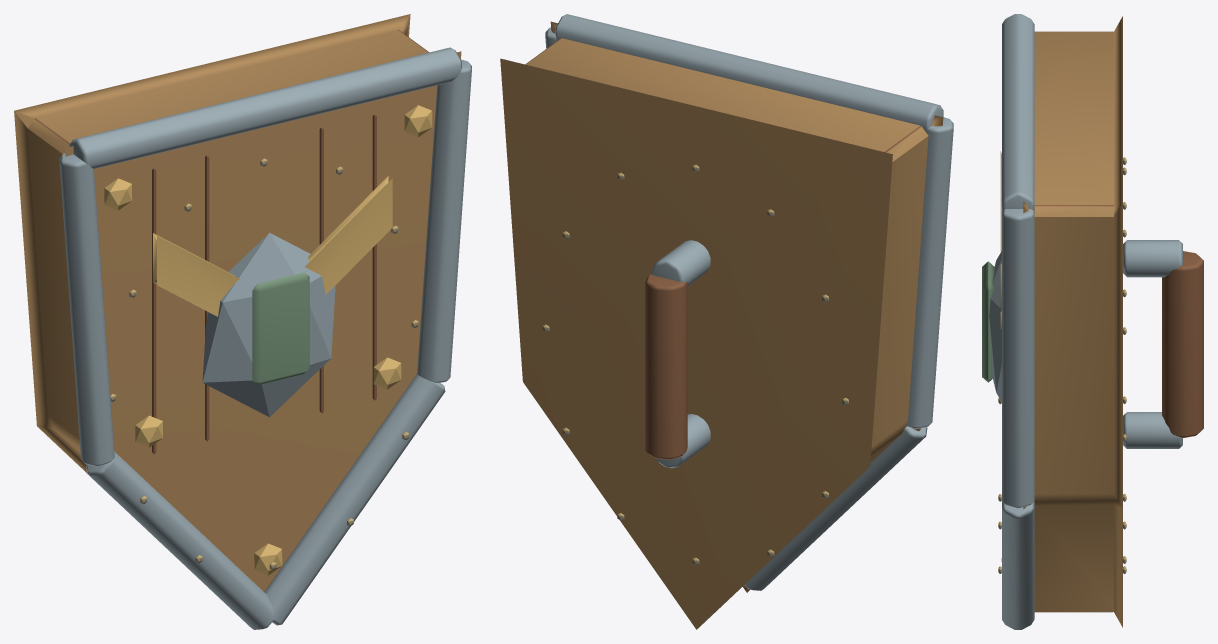
Rendered from escudo_roble_t2.glb.
3 views of the same model, side by side, from view 1: azimuth 30°, elevation 25°; view 2: azimuth 150°, elevation 25°; view 3: azimuth 270°, elevation 25° (orthographic). The views are drawn at different scales.
Parts seen in each view (by area): view 1: escudo_roble_t2_finished; view 2: escudo_roble_t2_finished; view 3: escudo_roble_t2_finished.
Boxes of the visible parts, x1,y1,x2,y2 form: escudo_roble_t2_finished: [14, 14, 471, 629]; escudo_roble_t2_finished: [500, 14, 953, 629]; escudo_roble_t2_finished: [982, 14, 1203, 629].
Size of the model in its own units: 0.9266 by 1.16 by 0.4444.
Materials: 6 (1 with a texture image).
